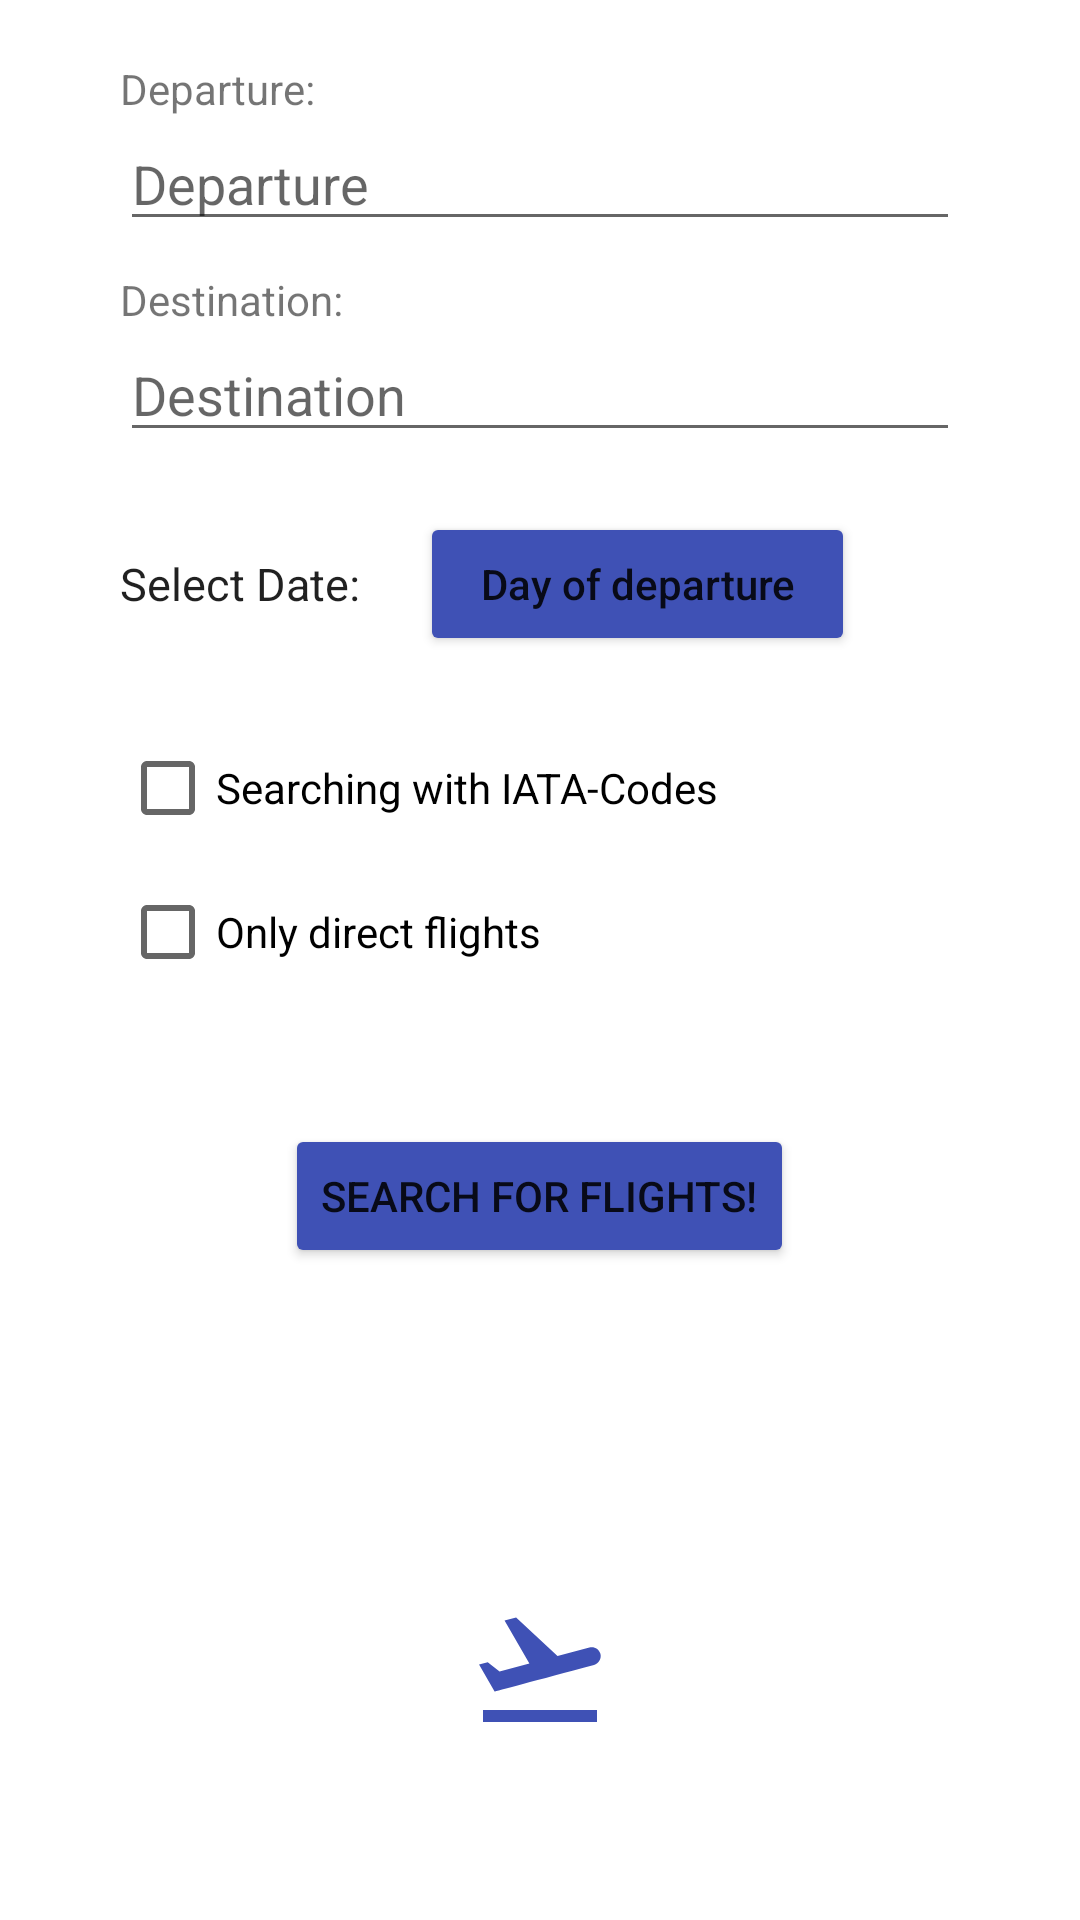

Locate icon controls on the screen. Image size 1080x1920, boxes as (x1, y1, x2, y2).
takeoff: (479, 1617, 601, 1722)
